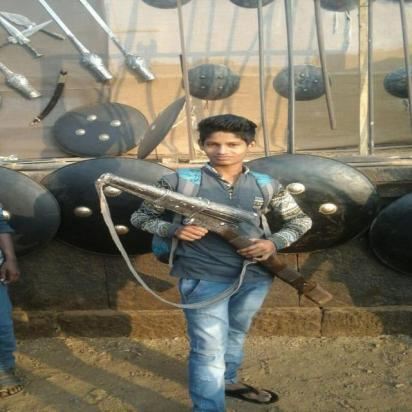Gun: (92, 172, 336, 306)
